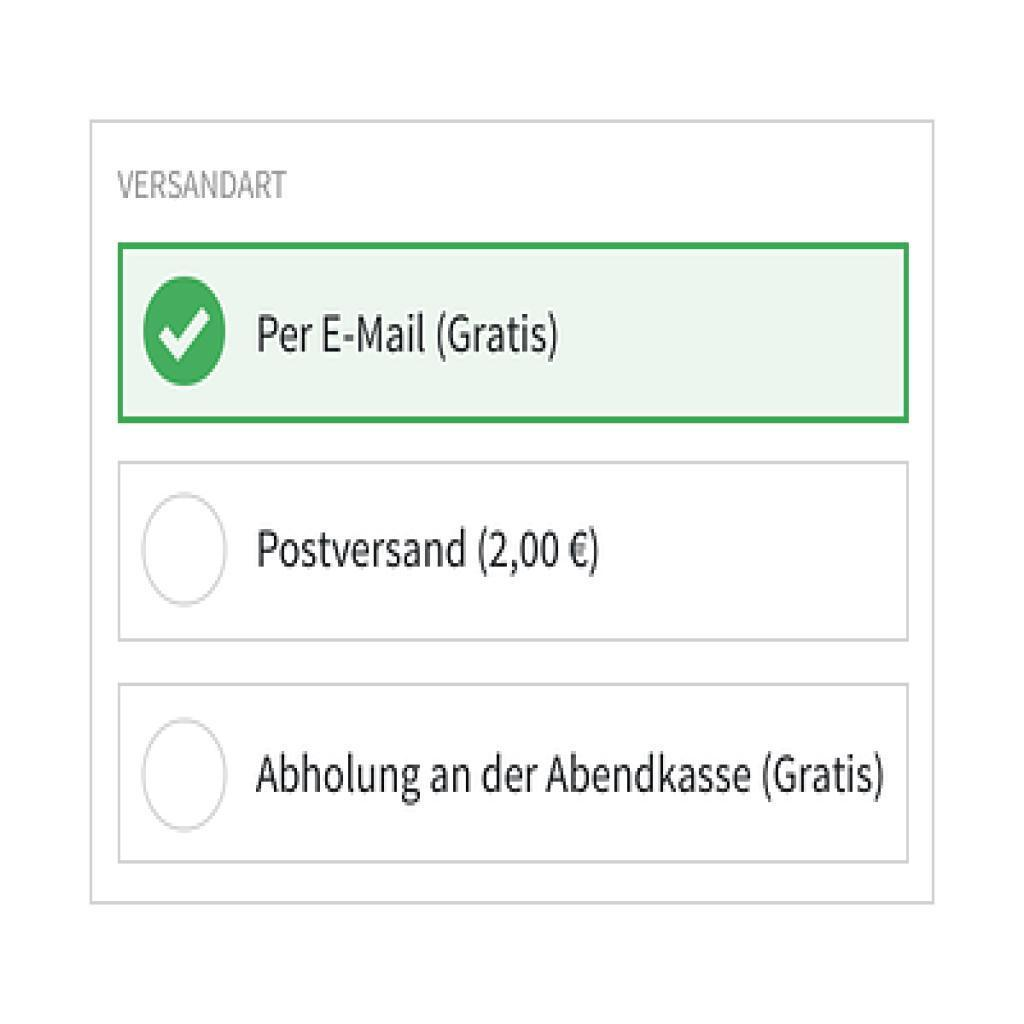checkbox: (140, 271, 236, 395)
radio: (134, 485, 236, 614), (143, 717, 231, 832)
